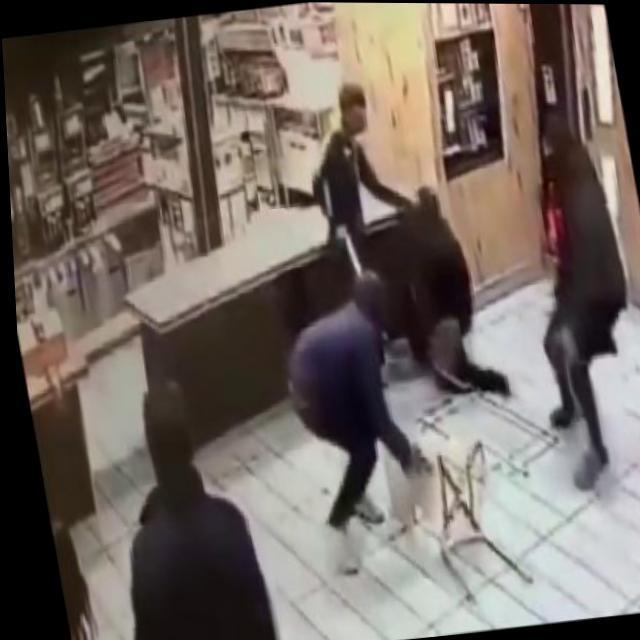fight: (291, 70, 499, 407)
